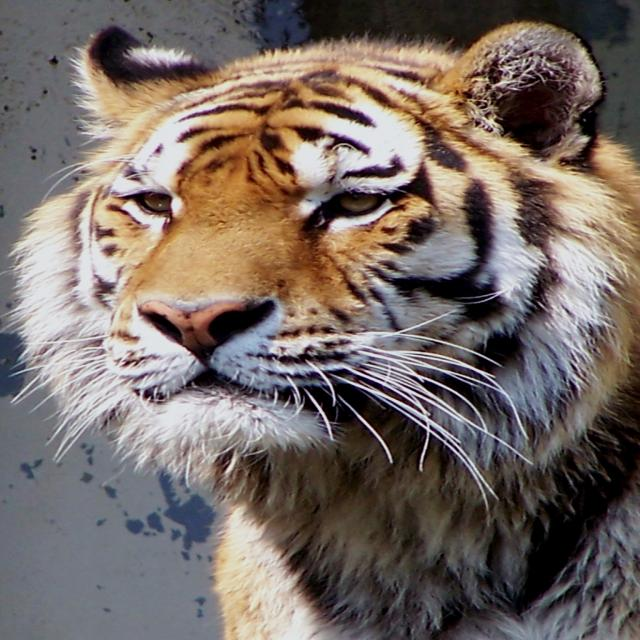Tiger: (0, 14, 640, 640)
